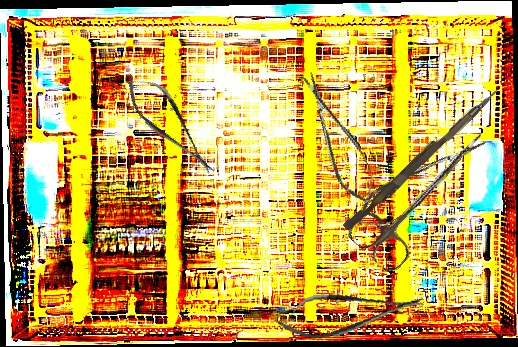Iris Scissors: (344, 125, 489, 277)
Micro Scissor: (348, 126, 496, 238), (114, 61, 225, 187), (294, 65, 383, 211), (274, 282, 427, 344)
Pusher: (342, 83, 500, 235)
